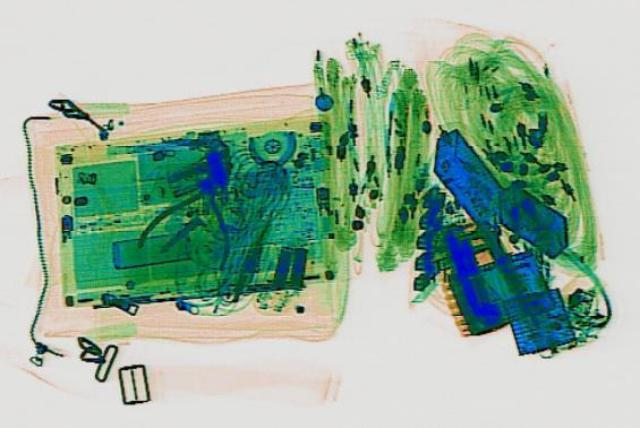Pliers: (130, 151, 270, 267)
